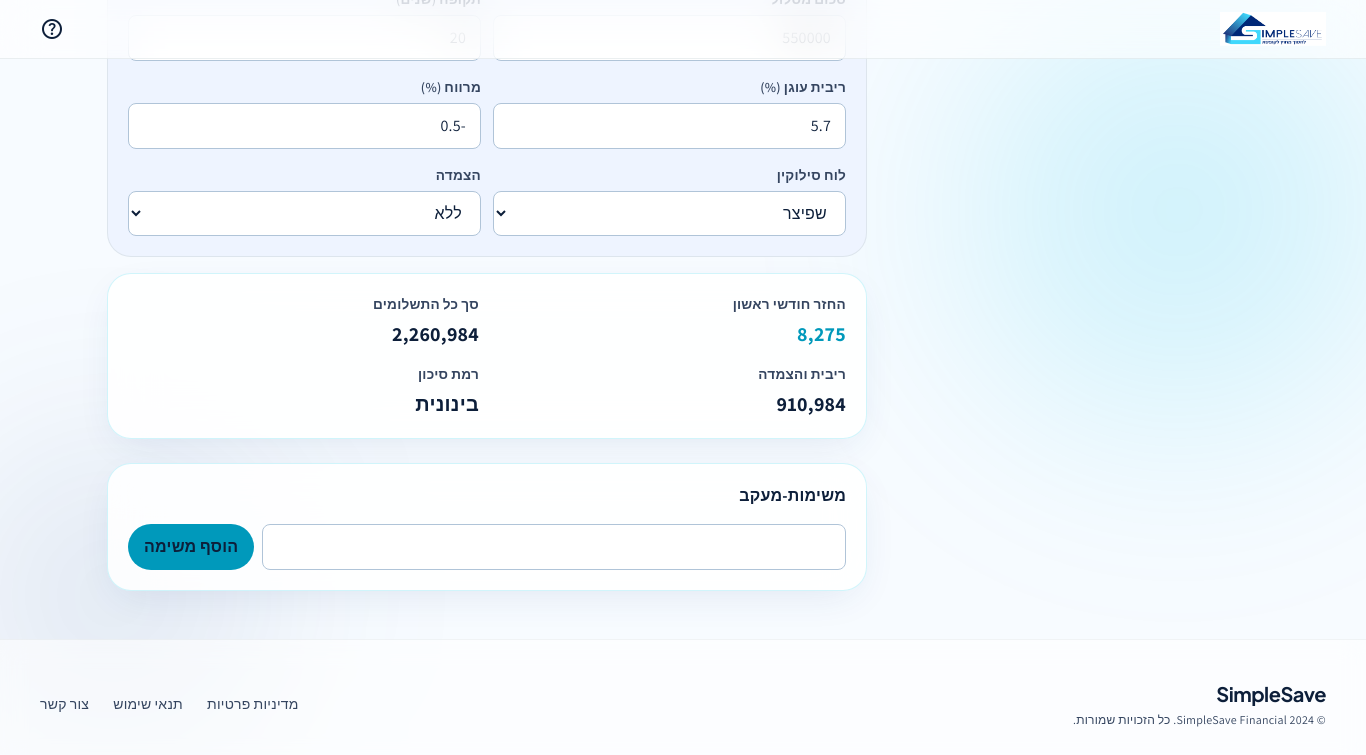
Test: AdvisorScreen › deleting a task removes it from the list
The image size is (1366, 755).
(page scrolled)
In the field named "תיאור המשימה": (554, 547) [262,524,846,570], type "משימה למחיקה"
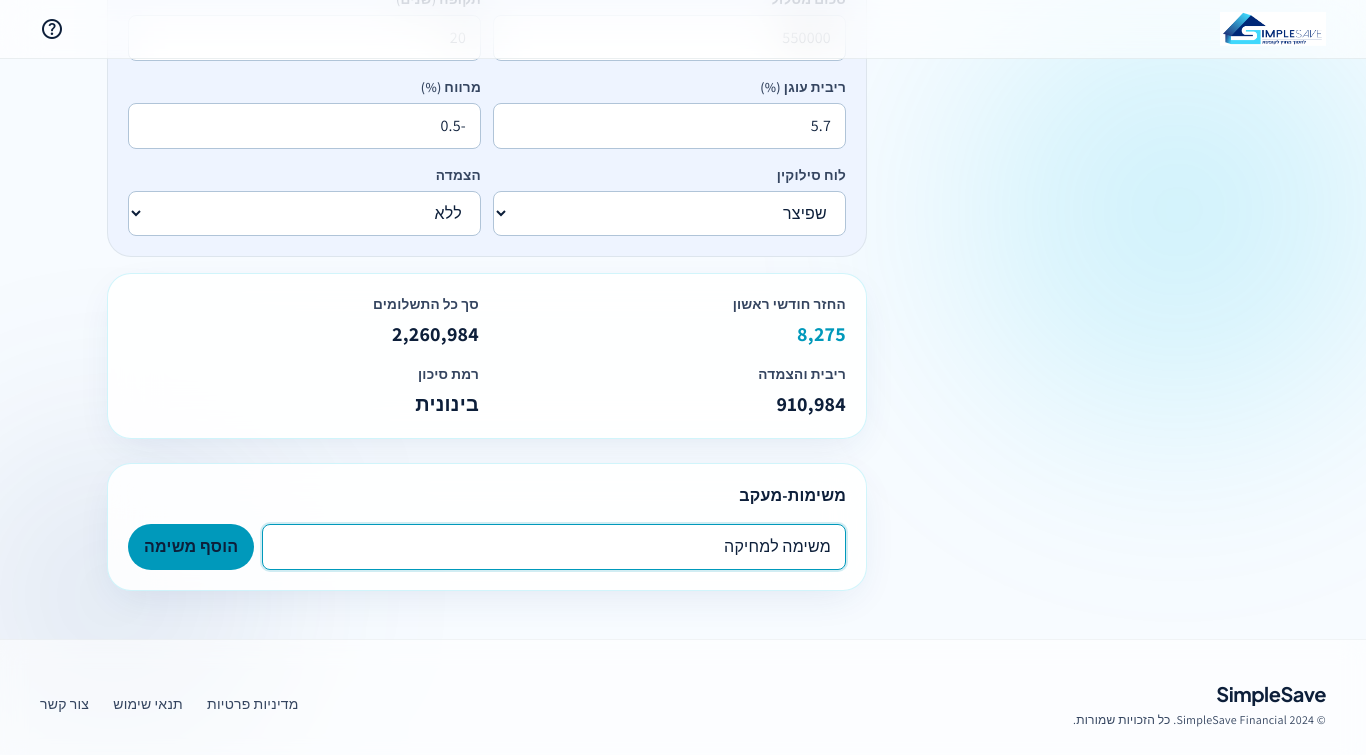
Click the button "הוסף משימה": (191, 547) [128,524,254,570]
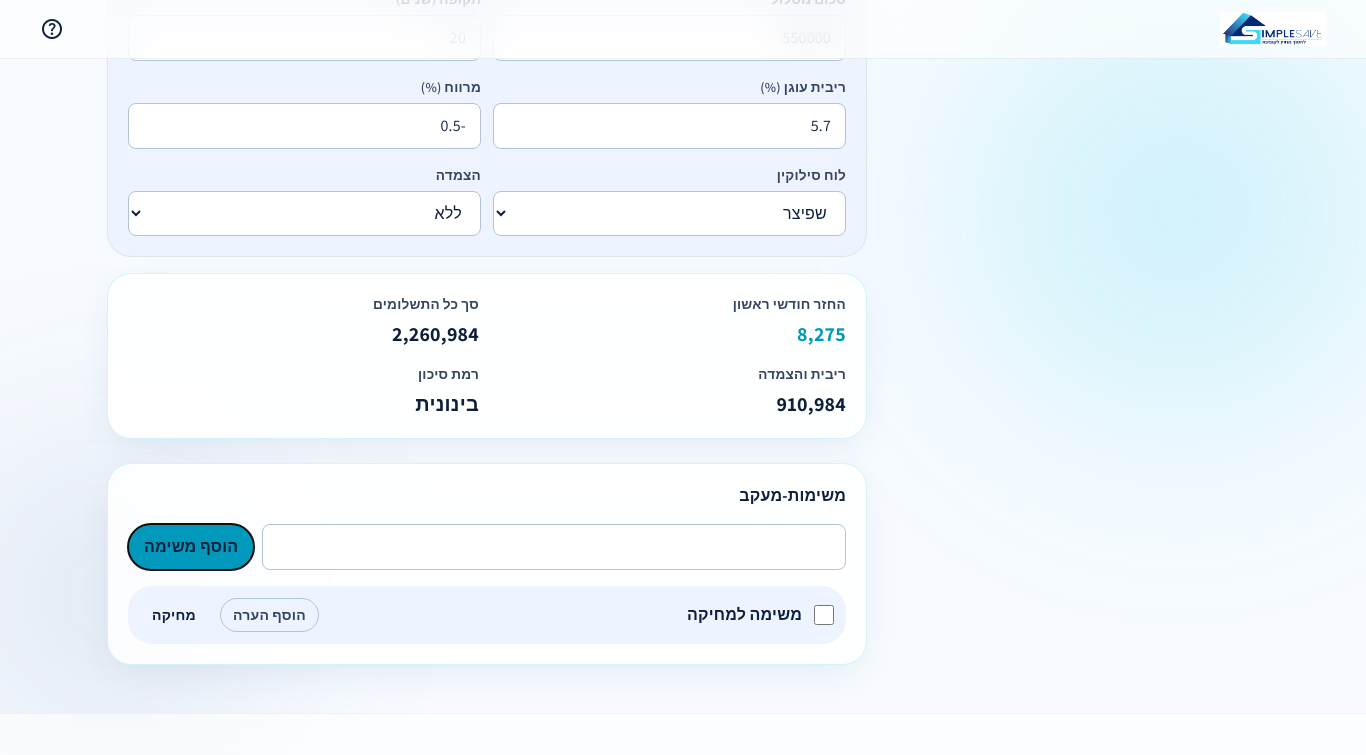
Result: the text "משימה למחיקה" is shown at [687,604,802,625]
Click the button "מחיקה": (174, 615) [140,599,208,631]
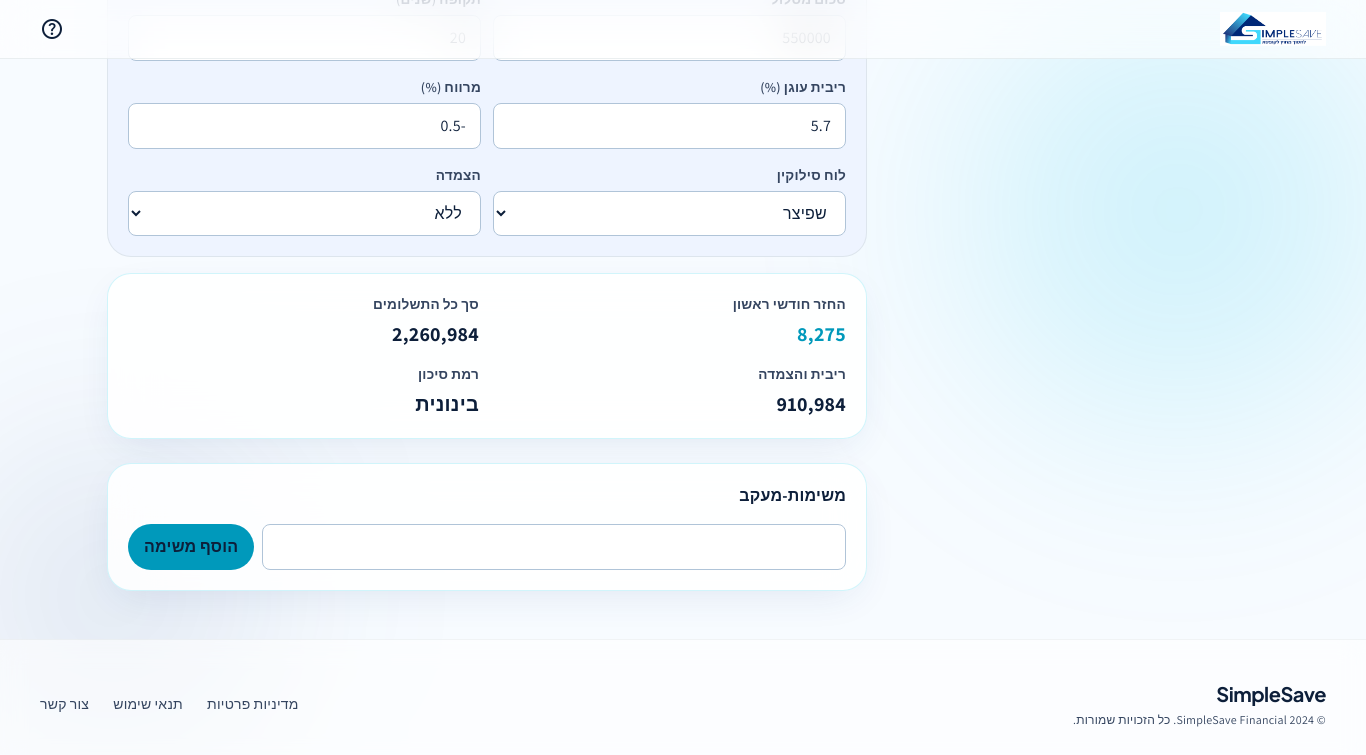
Result: the text "משימה למחיקה" is gone
